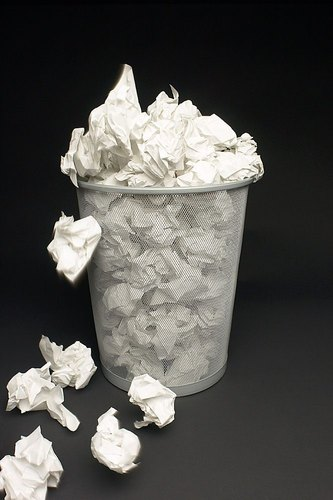Tissue: (5, 330, 101, 434), (44, 207, 105, 288), (87, 407, 142, 476)
